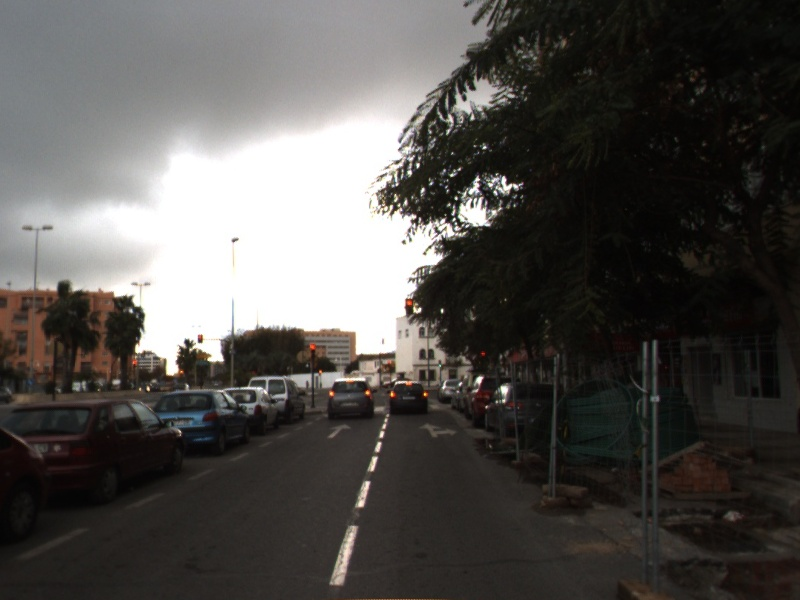STRAIGHT: (326, 422, 353, 440)
STRAIGHT_RIGHT: (418, 421, 460, 439)
